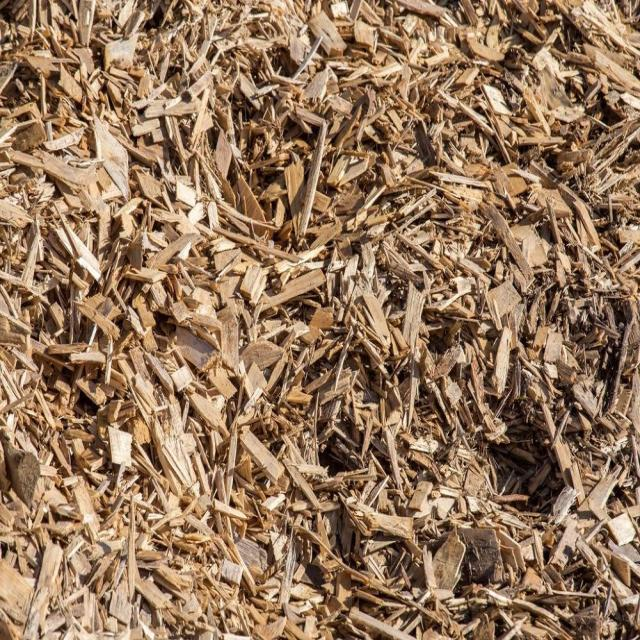green waste: (2, 7, 636, 634)
